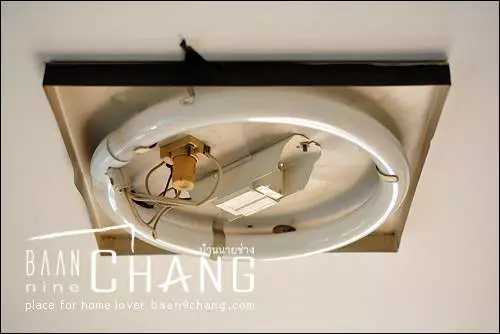Light_bulb: (84, 86, 410, 270)
